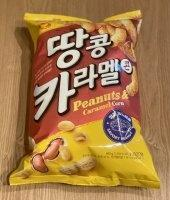snack: (7, 9, 162, 188)
